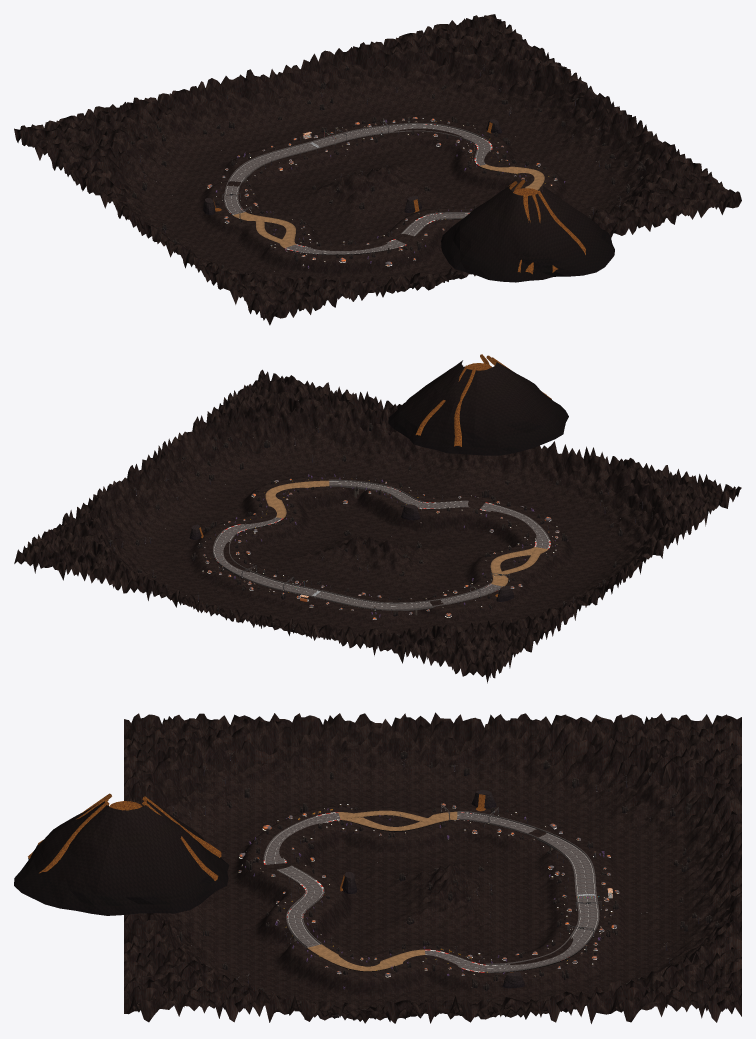
File: vulcao-rubro.glb
3 views of the same model, one above another, from view 1: azimuth 30°, elevation 25°; view 2: azimuth 150°, elevation 25°; view 3: azimuth 270°, elevation 25° (orthographic). The views are drawn at different scales.
Parts seen in each view (by area): view 1: sec5_props, terrain4, terrain3, terrain2, terrain1, terrain0, terrain11, terrain14, terrain17, terrain6, terrain15, terrain19 (+29 smaller); view 2: sec5_props, terrain28, terrain25, terrain24, terrain26, terrain23, terrain0, terrain14, terrain27, terrain20, terrain15, terrain17 (+31 smaller); view 3: sec5_props, terrain18, terrain6, terrain12, terrain24, terrain1, terrain0, terrain2, terrain15, terrain22, terrain3, terrain13 (+41 smaller).
Boxes of the visible parts, x1,y1,x2,y2 form: sec5_props: (436,179,614,282); terrain4: (353,24,486,117); terrain3: (269,46,401,134); terrain2: (187,69,312,157); terrain1: (99,89,231,168); terrain0: (14,106,147,176); terrain11: (487,48,588,130); terrain14: (282,167,406,229); terrain17: (536,86,636,167); terrain6: (63,153,195,221); terrain15: (366,149,499,206); terrain19: (246,227,378,281); sec5_props: (354,354,568,506); terrain28: (266,384,396,478); terrain25: (517,460,650,540); terrain24: (602,467,735,541); terrain26: (435,451,565,510); terrain23: (162,411,260,493); terrain0: (408,620,539,683); terrain14: (335,535,467,590); terrain27: (348,406,468,497); terrain20: (384,494,516,555); terrain15: (250,505,382,568); terrain17: (113,445,211,528); sec5_props: (14,793,329,941); terrain18: (259,713,380,811); terrain6: (500,713,621,811); terrain12: (380,712,500,810); terrain24: (139,713,259,810); terrain1: (621,766,741,862); terrain0: (621,713,741,796); terrain2: (621,819,741,913); terrain15: (380,889,500,958); terrain22: (259,948,380,1013); terrain3: (621,875,741,964); terrain13: (380,805,500,862).
Size of what is drawn, in the model's own units: 675 by 133 by 724.
21 materials, 13 textured.
